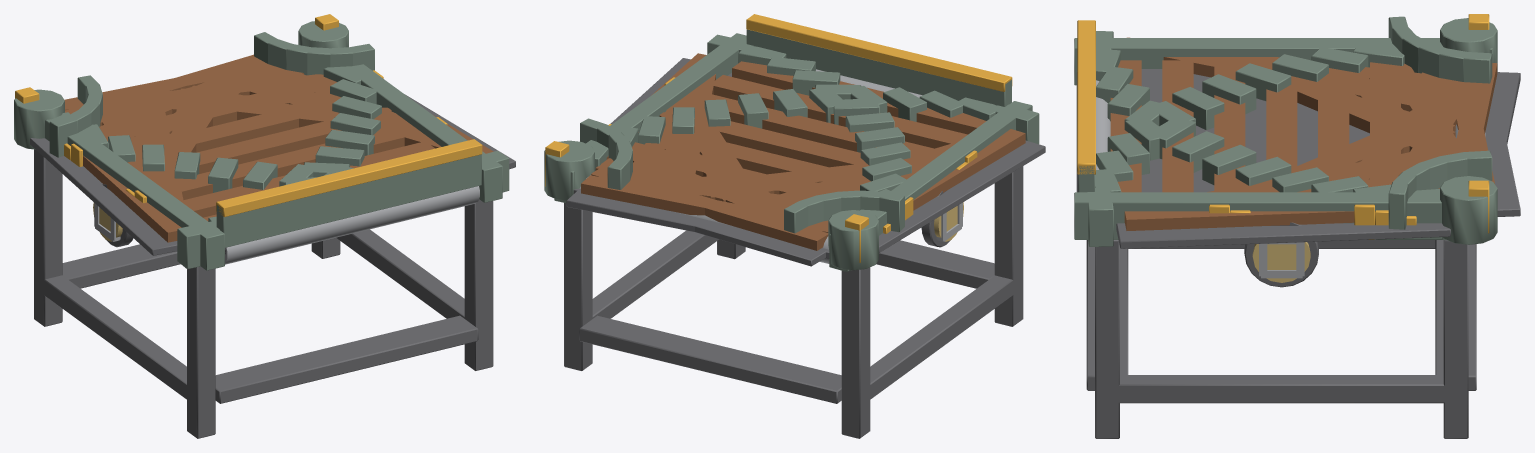
File: feConveyor.fbx
The picture shows the model from 3 angles, left to right: view 1: azimuth 30°, elevation 25°; view 2: azimuth 150°, elevation 25°; view 3: azimuth 270°, elevation 25°; orthographic projection. The views are drawn at different scales.
Visible parts, largest first — view 1: feConveyor_Base, FeBeltSlats, FeBeltEnd, FeCurveSet_R, FeCurveSlats_L, FeCurveSlats_R, FeCurveSet_L, FeRail_R, FeSpin_BeltRollerFront, FeRail_L, FeCurve_L, FeCurve_R (+1 smaller); view 2: feConveyor_Base, FeBeltSlats, FeCurveSet_R, FeCurveSet_L, FeCurveSlats_L, FeBeltEnd, FeCurveSlats_R, FeRail_R, FeCurve_R, FeRail_L, FeCurve_L, FeSpin_BeltDrive; view 3: feConveyor_Base, FeCurveSet_L, FeBeltSlats, FeCurveSet_R, FeCurveSlats_L, FeRail_L, FeCurveSlats_R, FeRail_R, FeCurve_L, FeCurve_R, FeBeltEnd, FeSpin_BeltDrive (+1 smaller).
Part boxes in pixels (box(x1,y1,x2,y2)): feConveyor_Base: box(34, 149, 493, 438); FeBeltSlats: box(100, 67, 434, 221); FeBeltEnd: box(216, 139, 482, 247); FeCurveSet_R: box(14, 66, 381, 269); FeCurveSlats_L: box(64, 61, 493, 153); FeCurveSlats_R: box(65, 54, 276, 242); FeCurveSet_L: box(53, 21, 515, 192); FeRail_R: box(45, 115, 224, 270); FeSpin_BeltRollerFront: box(225, 186, 479, 264); FeRail_L: box(344, 64, 502, 202); FeCurve_L: box(254, 14, 374, 75); FeCurve_R: box(15, 75, 102, 157); feConveyor_Base: box(564, 166, 1023, 438); FeBeltSlats: box(595, 61, 986, 224); FeCurveSet_R: box(554, 86, 1045, 270); FeCurveSet_L: box(544, 34, 911, 271); FeCurveSlats_L: box(591, 53, 828, 250); FeBeltEnd: box(746, 14, 1012, 106); FeCurveSlats_R: box(581, 129, 1025, 232); FeRail_R: box(849, 101, 1032, 270); FeCurve_R: box(784, 190, 904, 262); FeRail_L: box(586, 33, 746, 153); FeCurve_L: box(545, 118, 632, 189); FeSpin_BeltDrive: box(921, 202, 963, 241); feConveyor_Base: box(1086, 71, 1476, 438); FeCurveSet_L: box(1087, 40, 1520, 248); FeBeltSlats: box(1110, 60, 1452, 192); FeCurveSet_R: box(1096, 18, 1520, 239); FeCurveSlats_L: box(1124, 63, 1497, 230); FeRail_L: box(1074, 192, 1442, 239); FeCurveSlats_R: box(1127, 37, 1495, 184); FeRail_R: box(1074, 38, 1441, 85); FeCurve_L: box(1388, 150, 1492, 233); FeCurve_R: box(1388, 14, 1492, 83); FeBeltEnd: box(1077, 20, 1095, 192); FeSpin_BeltDrive: box(1252, 242, 1310, 282).
Bounding box in the file's own units: 1.15 × 0.705 × 1.08.
